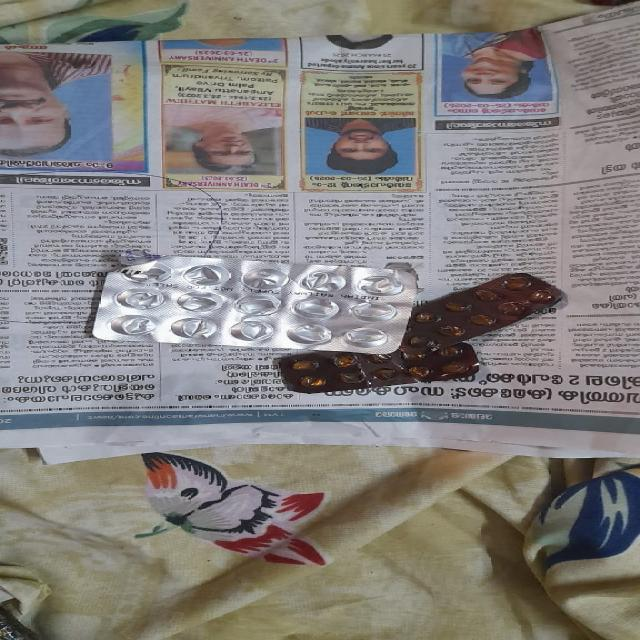Blister_Packs - Non Recyclable: (78, 250, 572, 402)
